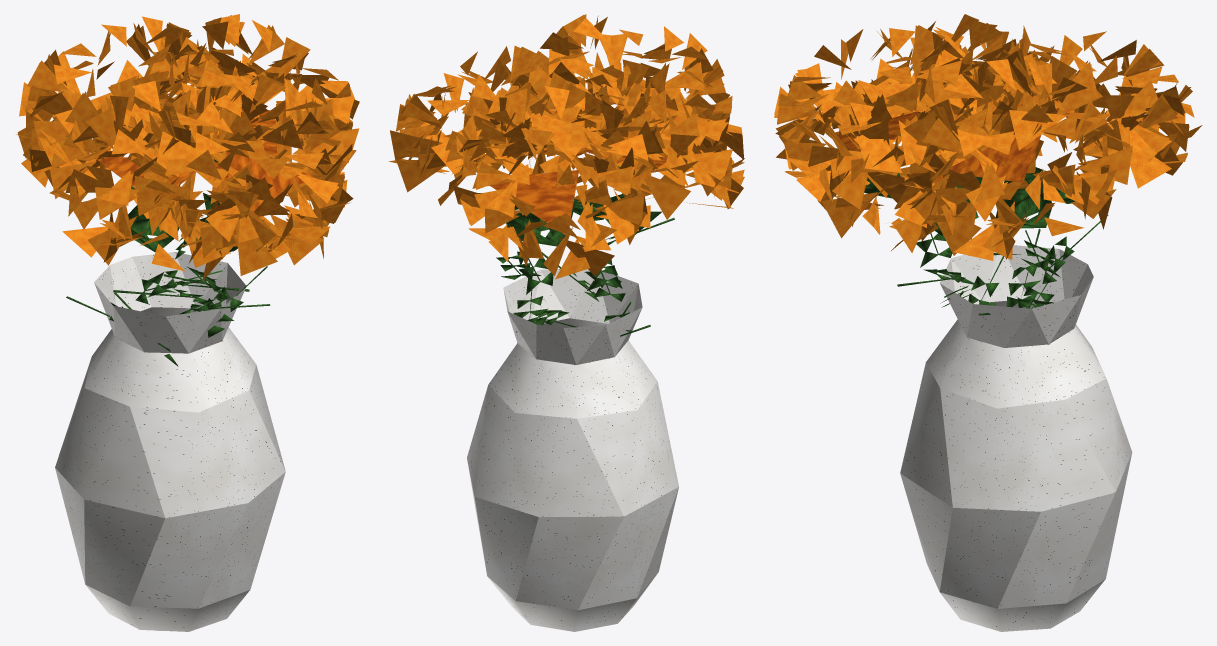
Rendered from florero_medio.obj.
The picture shows the model from 3 angles, left to right: view 1: azimuth 30°, elevation 25°; view 2: azimuth 150°, elevation 25°; view 3: azimuth 270°, elevation 25°; orthographic projection. The views are drawn at different scales.
Parts seen in each view (by area): view 1: Florero, Flor_Cempasuchil.005, Flor_Cempasuchil.003, Flor_Cempasuchil.002, Flor_Cempasuchil.001, Flor_Cempasuchil.004; view 2: Florero, Flor_Cempasuchil.001, Flor_Cempasuchil.002, Flor_Cempasuchil.003, Flor_Cempasuchil.005, Flor_Cempasuchil.004; view 3: Florero, Flor_Cempasuchil.002, Flor_Cempasuchil.005, Flor_Cempasuchil.001, Flor_Cempasuchil.004, Flor_Cempasuchil.003.
Part boxes in pixels (x1,y1,x2,y2): Florero: [55, 252, 285, 631]; Flor_Cempasuchil.005: [131, 74, 353, 337]; Flor_Cempasuchil.003: [44, 76, 266, 321]; Flor_Cempasuchil.002: [144, 14, 359, 291]; Flor_Cempasuchil.001: [16, 16, 230, 301]; Flor_Cempasuchil.004: [114, 83, 347, 366]; Florero: [467, 269, 678, 631]; Flor_Cempasuchil.001: [438, 83, 653, 327]; Flor_Cempasuchil.002: [388, 46, 596, 332]; Flor_Cempasuchil.003: [528, 65, 744, 336]; Flor_Cempasuchil.005: [519, 14, 732, 301]; Flor_Cempasuchil.004: [486, 66, 693, 321]; Florero: [900, 245, 1132, 631]; Flor_Cempasuchil.002: [899, 51, 1132, 318]; Flor_Cempasuchil.005: [774, 25, 993, 307]; Flor_Cempasuchil.001: [984, 31, 1202, 308]; Flor_Cempasuchil.004: [817, 58, 1043, 305]; Flor_Cempasuchil.003: [838, 14, 1057, 307].
Size of the model in its own units: 0.2837 by 0.4888 by 0.3316.
Materials: 4 (4 with a texture image).
